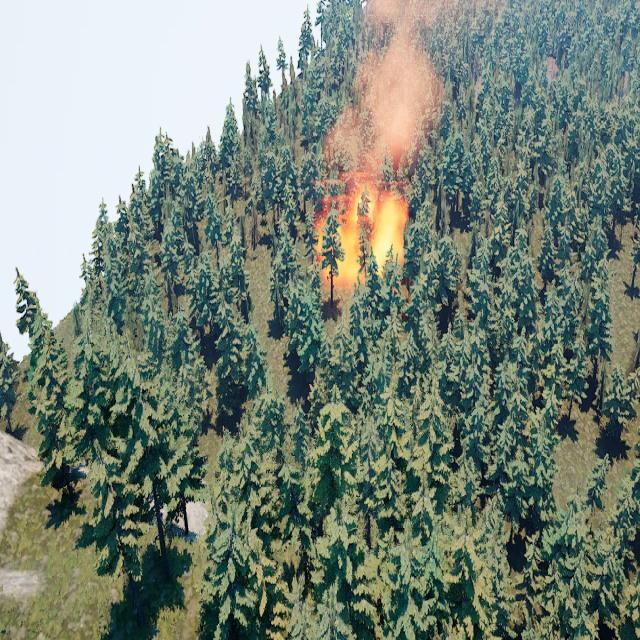fire: (316, 176, 408, 276)
smoke: (323, 0, 445, 178)
